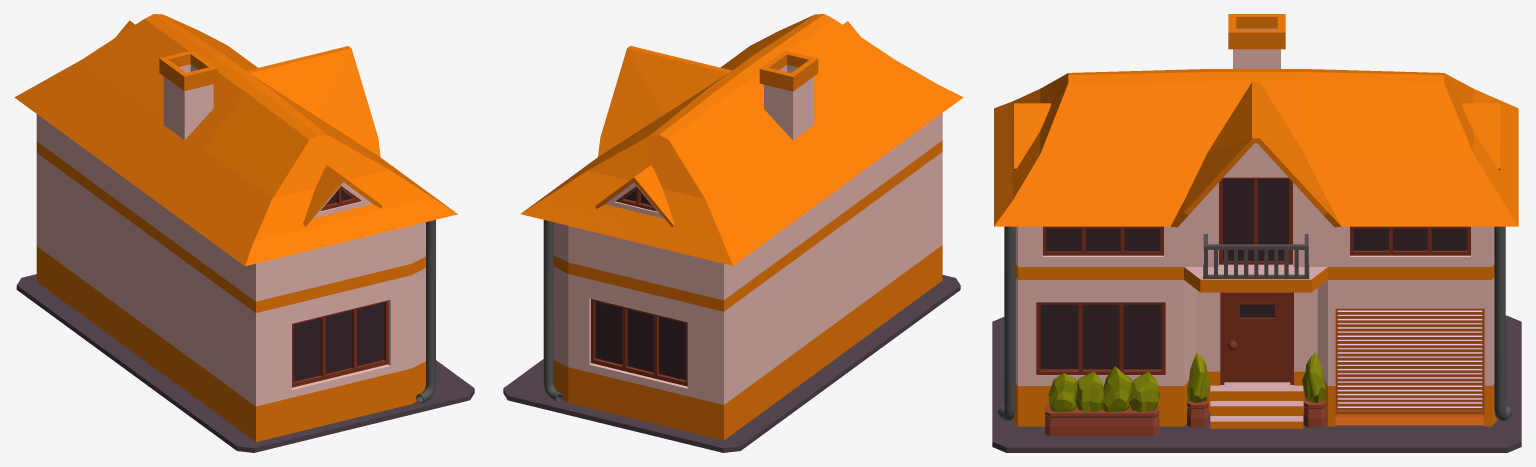
The model's file is house2.glb.
The picture shows the model from 3 angles, left to right: view 1: azimuth 30°, elevation 25°; view 2: azimuth 150°, elevation 25°; view 3: azimuth 270°, elevation 25°; orthographic projection. The views are drawn at different scales.
Visible parts, largest first — view 1: PublicBuilding_4; view 2: PublicBuilding_4; view 3: PublicBuilding_4.
Part boxes in pixels (bbox=[...]): PublicBuilding_4: bbox=[14, 14, 474, 452]; PublicBuilding_4: bbox=[503, 14, 963, 452]; PublicBuilding_4: bbox=[992, 14, 1521, 452].
Size of what is drawn, in the model's own units: 2.93 by 3.44 by 4.97.
1 material, 1 textured.
